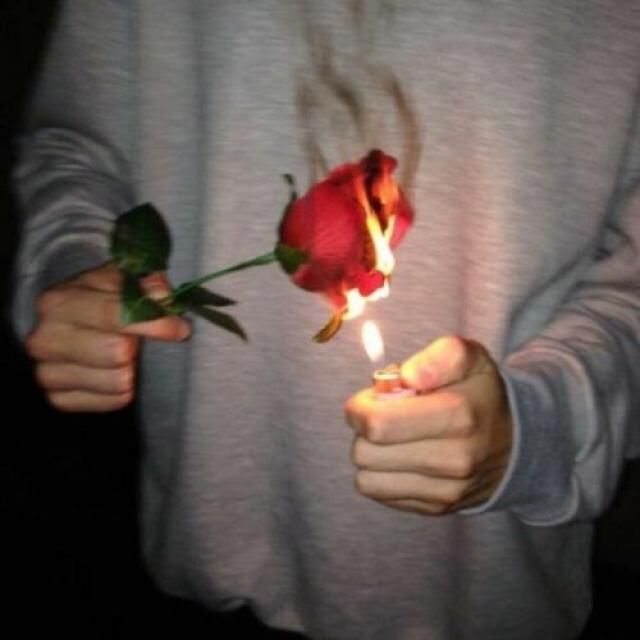Fire: (310, 161, 435, 373)
